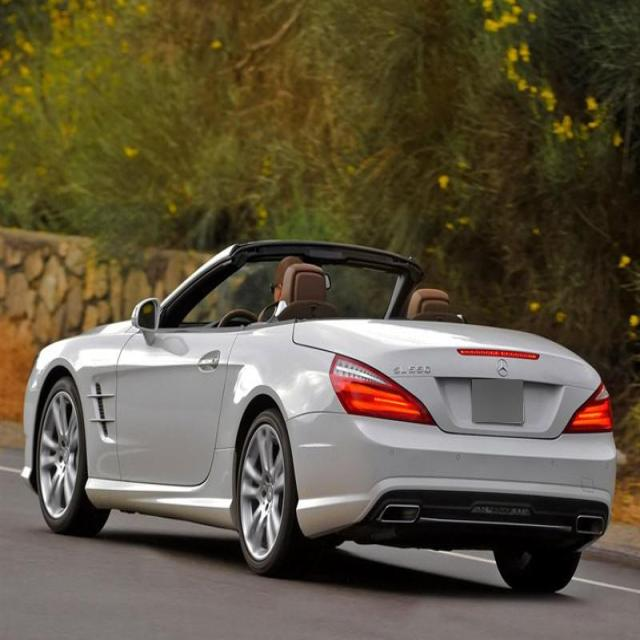back_left_side_light: (329, 351, 437, 427)
back_right_side_light: (560, 378, 615, 436)
front_glass: (168, 245, 405, 322)
front_left_side_door: (114, 320, 241, 488)
front_left_side_mirror: (130, 296, 161, 342)
rear_bumper: (284, 409, 619, 543)
wheel: (35, 376, 103, 533), (238, 411, 296, 571)
